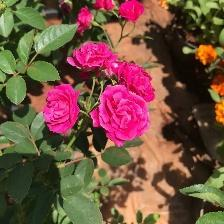rose: (89, 83, 152, 151)
